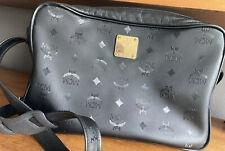MCM: (29, 2, 214, 149)
